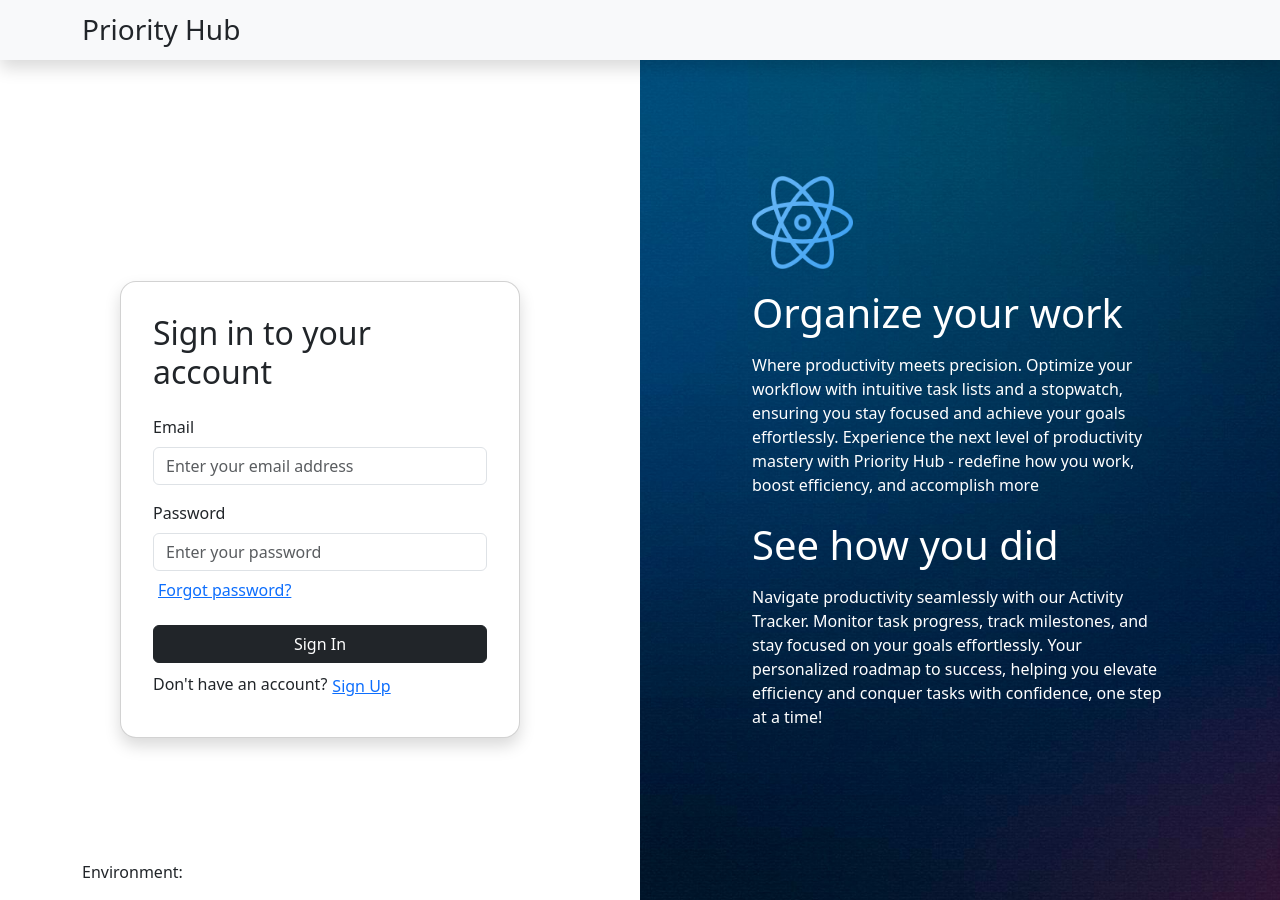
Test case: SignInCustom › Should not be able to submit the Sign In form with blank values
// Click the Sign In button
What coordinates should you click on to do the following:
click the button with test id "signin_btn"
I would click on:
 (320, 644)
Its box is [153,625,487,663].
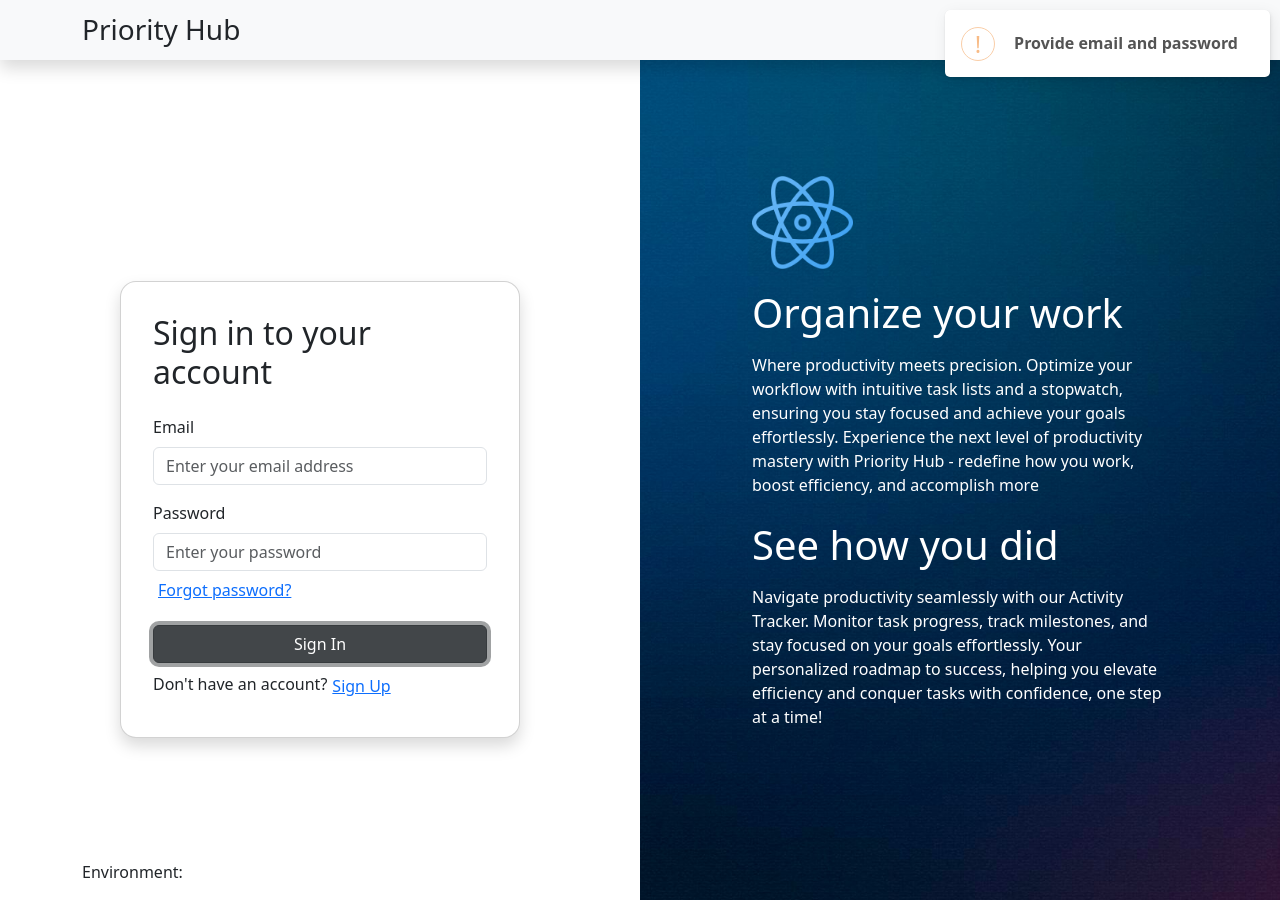
Expected: the heading "Provide email and password" is shown, [1014,34,1238,53]
